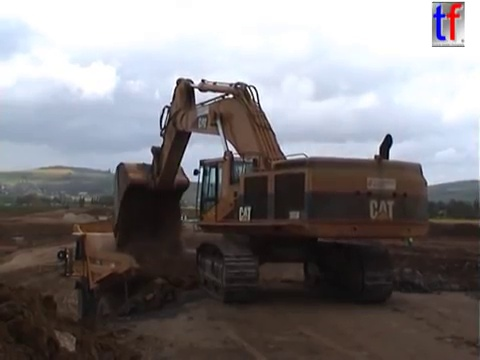excavator: (108, 75, 434, 308)
truck: (55, 221, 247, 330), (62, 202, 71, 212), (78, 201, 86, 210)
worker: (404, 226, 418, 249)
